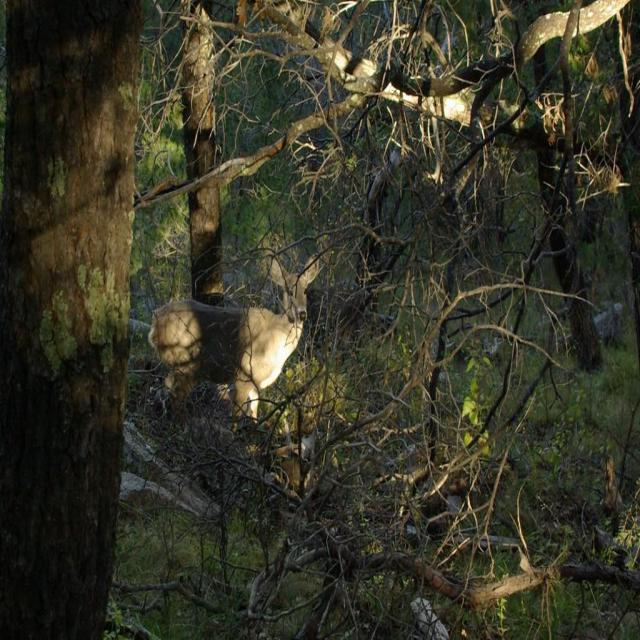Deer: (150, 252, 320, 430)
